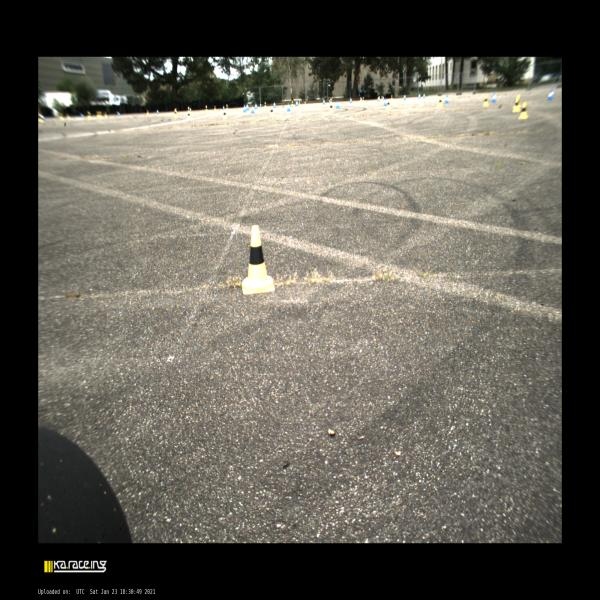blue_cone: (546, 89, 554, 100), (444, 94, 449, 104), (336, 100, 340, 109), (492, 93, 496, 102), (286, 104, 290, 112), (242, 104, 246, 112), (383, 98, 387, 106), (251, 106, 255, 113), (104, 112, 108, 118), (255, 102, 258, 109), (246, 103, 249, 110), (273, 101, 276, 108), (403, 94, 406, 100), (80, 113, 84, 117), (418, 94, 421, 99), (156, 110, 159, 115), (117, 111, 120, 116), (323, 99, 325, 105), (423, 94, 425, 99), (350, 98, 352, 103), (296, 101, 298, 106), (378, 96, 380, 101), (260, 103, 262, 108), (222, 105, 224, 110), (190, 108, 192, 112), (383, 96, 384, 101)
yellow_cone: (242, 226, 275, 294), (518, 102, 528, 119), (512, 95, 520, 112), (483, 95, 489, 107), (328, 102, 334, 112), (186, 111, 192, 120), (222, 110, 227, 119), (87, 111, 92, 120), (270, 106, 274, 117), (438, 97, 442, 107), (387, 100, 391, 110), (174, 108, 178, 118), (204, 105, 209, 113), (59, 112, 64, 120), (99, 111, 103, 119), (66, 112, 71, 118), (146, 109, 150, 116), (380, 95, 383, 102), (362, 96, 365, 102), (264, 102, 267, 108), (214, 106, 217, 112), (359, 97, 362, 102), (391, 94, 393, 101), (298, 100, 300, 107), (97, 111, 99, 118), (330, 98, 332, 104), (292, 101, 294, 107), (226, 104, 228, 110), (379, 96, 381, 101), (188, 106, 189, 112)
